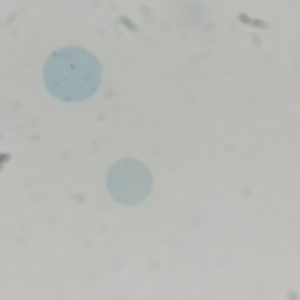erythrocyte: (104, 156, 154, 206)
punctate reticulocyte: (41, 45, 104, 104)
